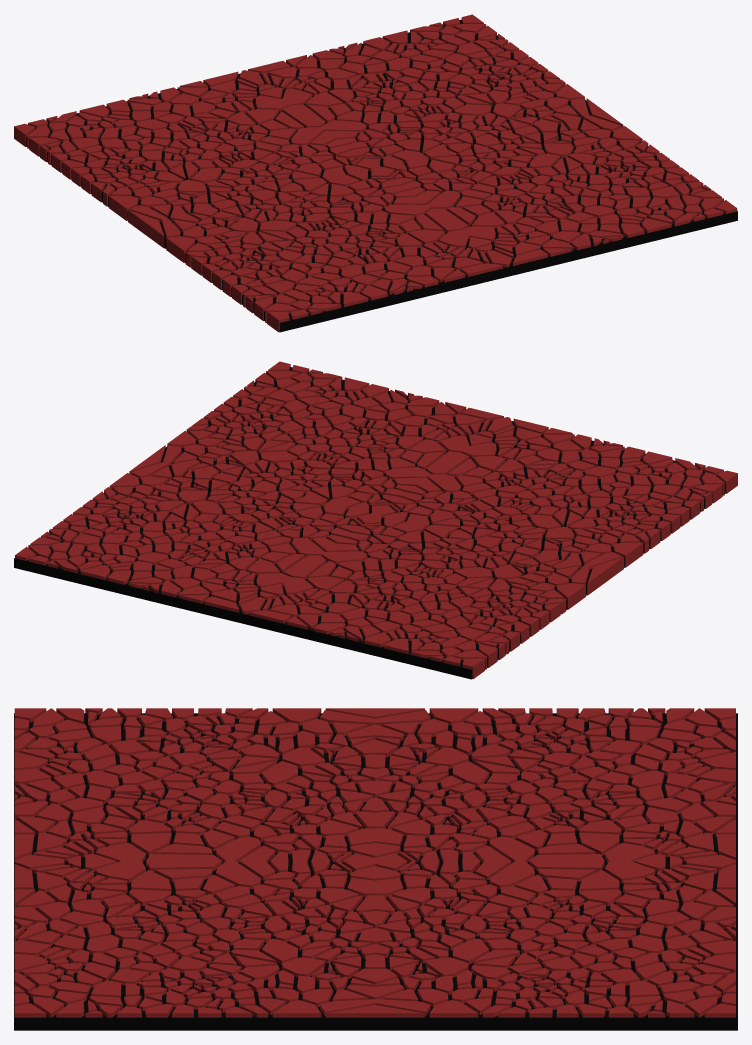
Rendered from Lava.fbx.
3 views of the same model, one above another, from view 1: azimuth 30°, elevation 25°; view 2: azimuth 150°, elevation 25°; view 3: azimuth 270°, elevation 25° (orthographic). The views are drawn at different scales.
Parts seen in each view (by area): view 1: Just Lava; view 2: Just Lava; view 3: Just Lava.
Part boxes in pixels (left/top/right/bottom): Just Lava: left=14, top=14, right=737, bottom=332; Just Lava: left=14, top=361, right=737, bottom=679; Just Lava: left=14, top=708, right=737, bottom=1030.
Bounding box in the file's own units: 29585 × 762 × 29661.
